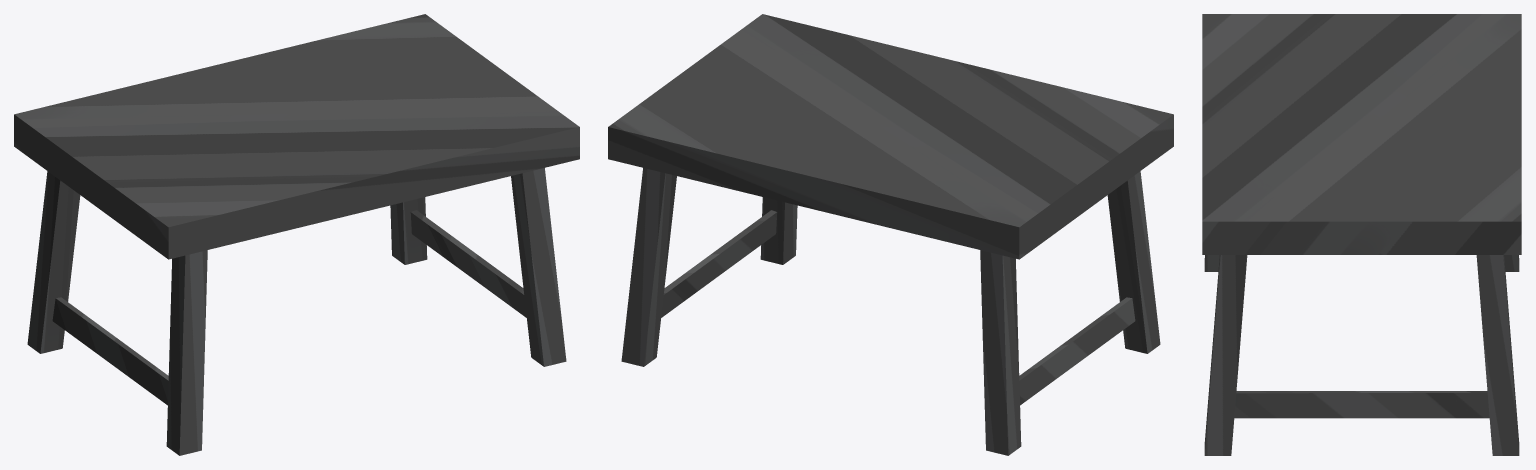
The model's file is Table.glb.
The picture shows the model from 3 angles, left to right: view 1: azimuth 30°, elevation 25°; view 2: azimuth 150°, elevation 25°; view 3: azimuth 270°, elevation 25°; orthographic projection. The views are drawn at different scales.
Visible parts, largest first — view 1: Table; view 2: Table; view 3: Table.
Part boxes in pixels (left/top/right/bottom): Table: left=14, top=14, right=579, bottom=455; Table: left=608, top=14, right=1173, bottom=455; Table: left=1202, top=14, right=1521, bottom=455.
Size of the model in its own units: 2 by 1.08 by 1.3.
Materials: 1 (1 with a texture image).
